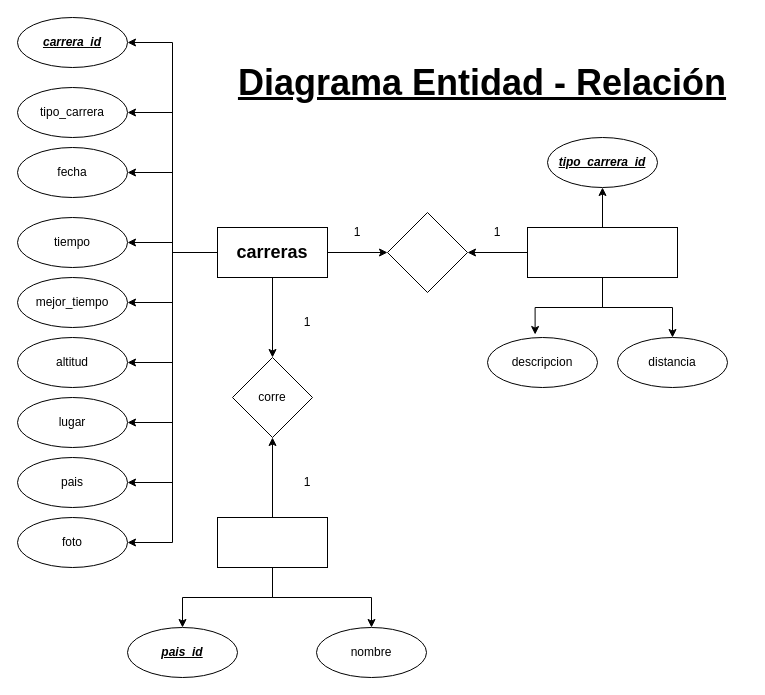
This 765x695 diagram has some shape labels left out. The centre of each missing label's shape, as x and y in pixels:
"paises" belongs at (x=272, y=542).
"pertenece" belongs at (x=427, y=252).
"tipos_carreras" belongs at (x=602, y=252).
